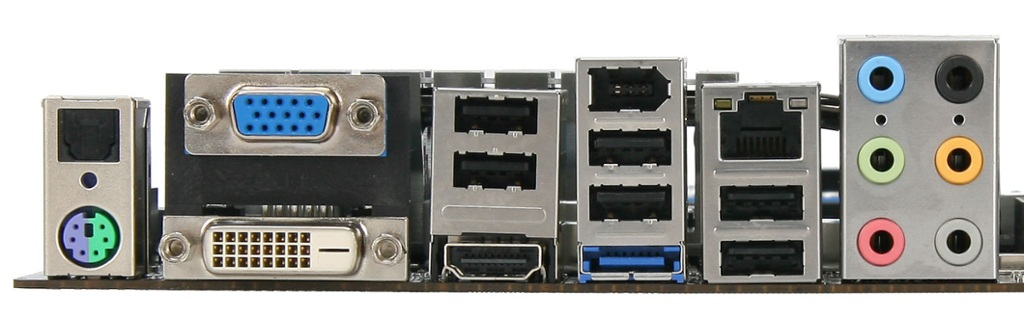Audio: (925, 209, 990, 274), (855, 51, 917, 109)
USB: (582, 126, 685, 170), (583, 185, 679, 228)
